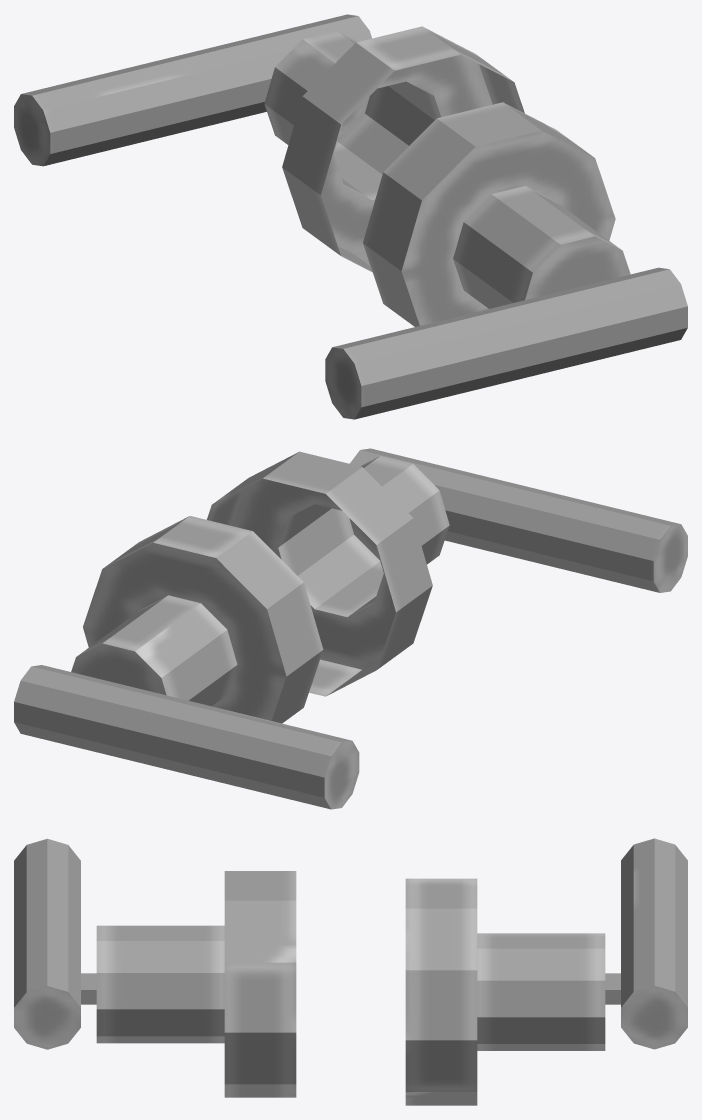
The model's file is Door_004_HandleLeft_001.fbx.
3 renders of one model, top to bottom at view 1: azimuth 30°, elevation 25°; view 2: azimuth 150°, elevation 25°; view 3: azimuth 270°, elevation 25°, orthographic. The views are drawn at different scales.
Visible parts, largest first — view 1: Door_004_HandleLeft_001; view 2: Door_004_HandleLeft_001; view 3: Door_004_HandleLeft_001.
Part boxes in pixels (left/top/right/bottom): Door_004_HandleLeft_001: left=14, top=14, right=687, bottom=419; Door_004_HandleLeft_001: left=14, top=448, right=687, bottom=809; Door_004_HandleLeft_001: left=14, top=838, right=687, bottom=1105.
Size of the model in its own units: 28.73 by 15.18 by 47.08.
